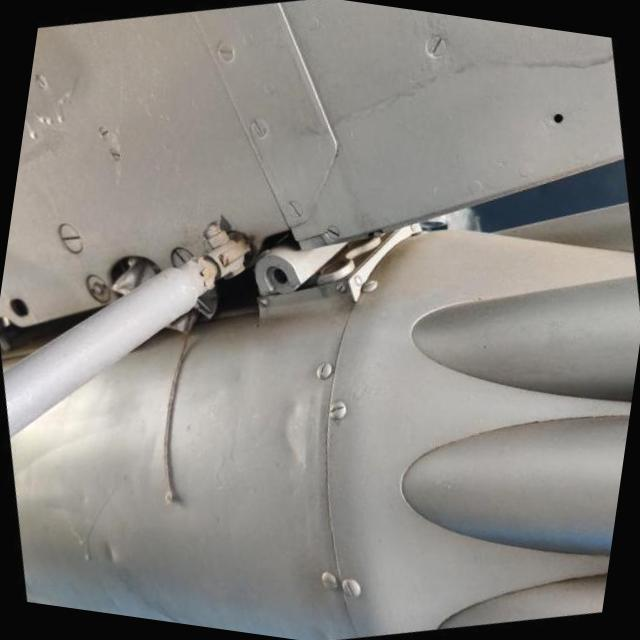Missing Fastener: (537, 98, 572, 134)
dent: (275, 388, 336, 472), (95, 534, 119, 566)
